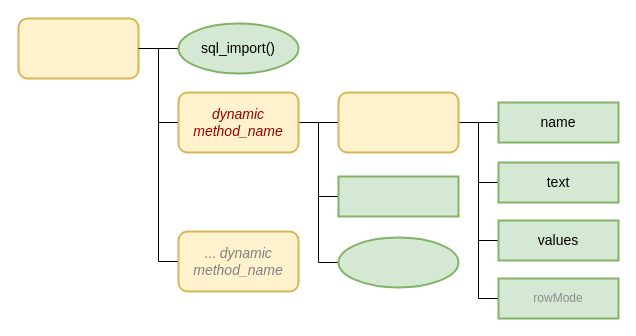
The diagram is 636 pixels wide and 336 high, and some of its shapes have lost their labels. The box of each missing label's shape, as (x1, y1, x2, y2) in pixels:
pg_methods object: (17, 17, 139, 79)
query_object: (337, 91, 459, 153)
returns: (337, 175, 459, 217)
run(): (337, 236, 459, 288)
